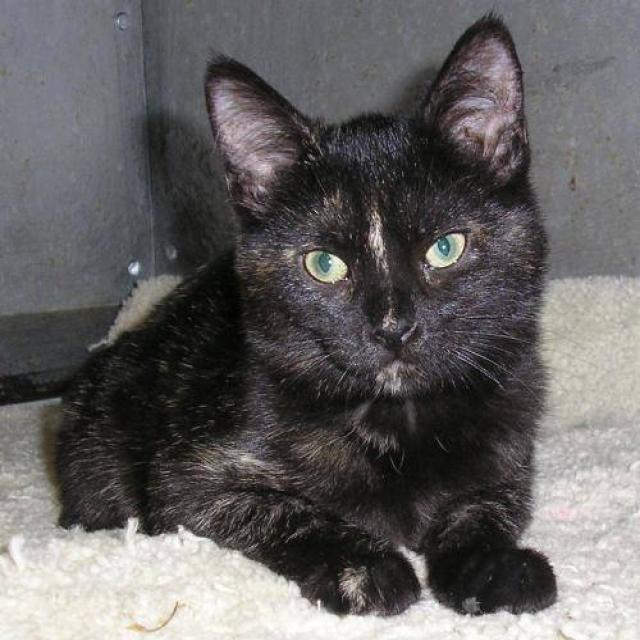cat: (51, 9, 558, 619)
